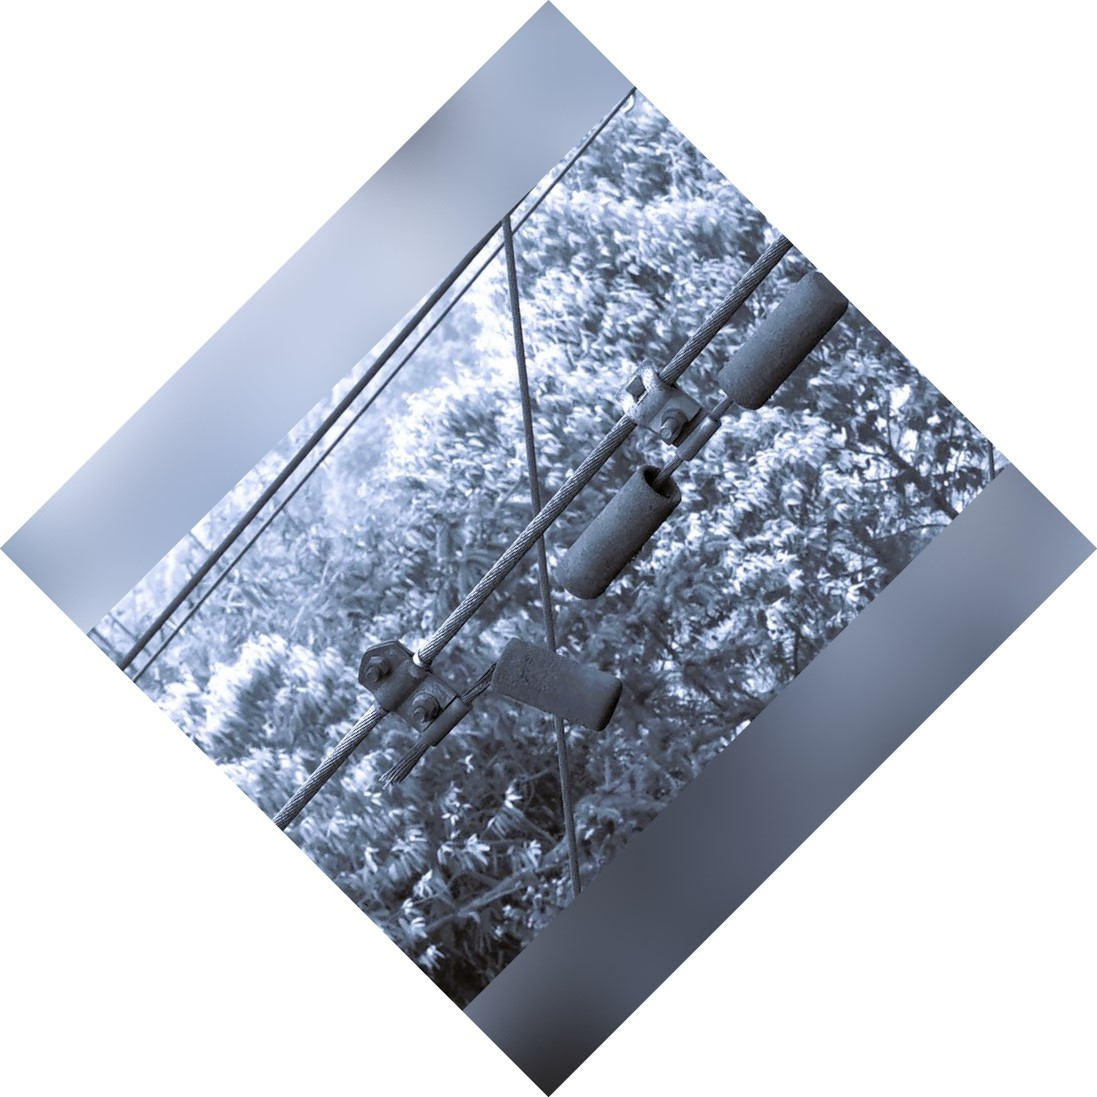Damage of shockproof hammer: (341, 613, 645, 796)
